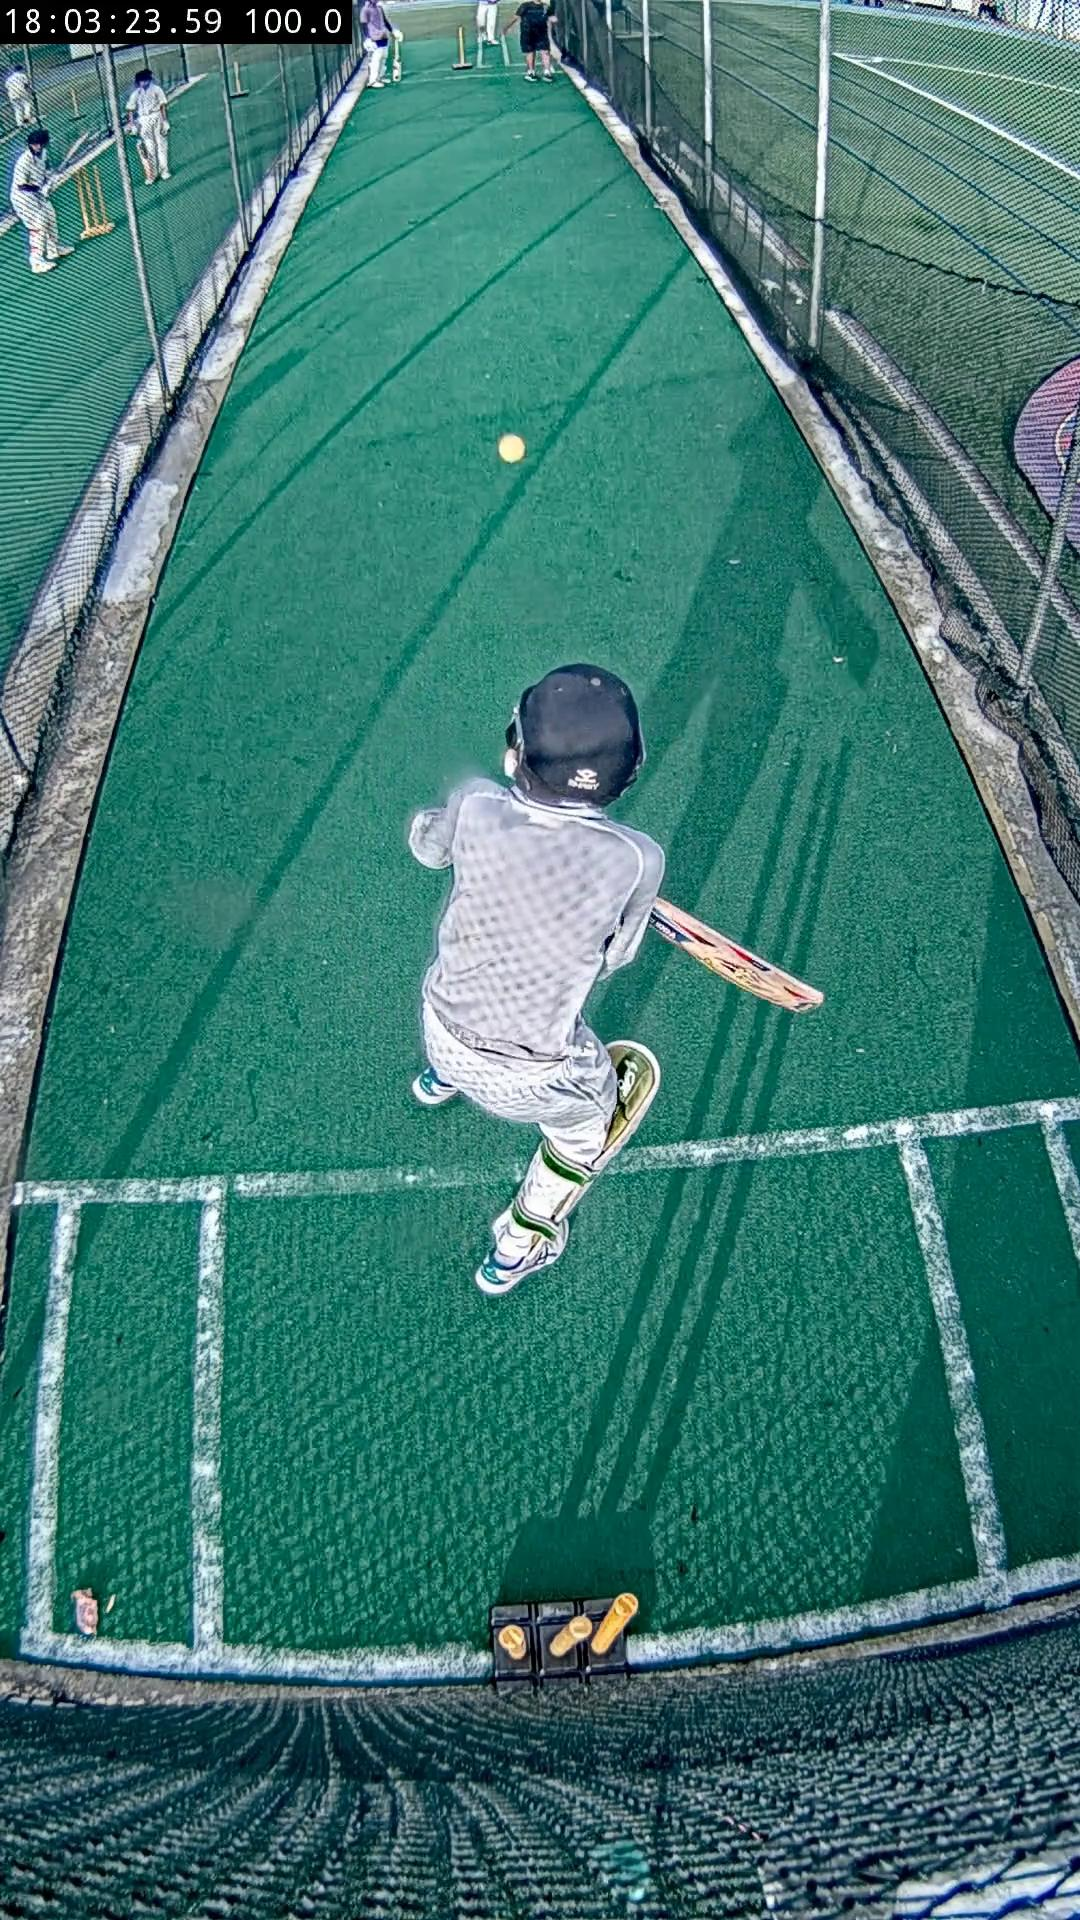ball: (498, 435, 525, 462)
bat: (653, 899, 825, 1013)
helmet: (510, 663, 645, 804)
pads: (592, 1039, 661, 1172)
stumps: (492, 1594, 641, 1684)
